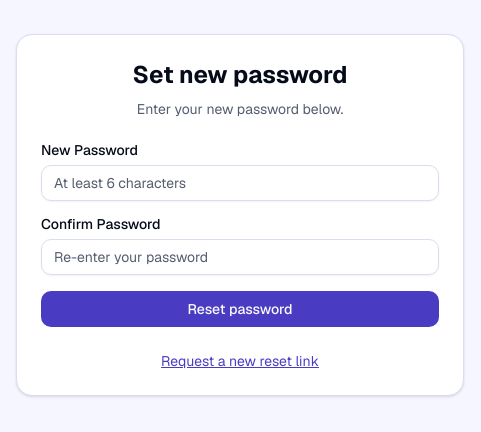
Test: ResetPasswordPage › shows validation error when passwords do not match
In the password field labelled "New Password": coordinates (240, 183) x1=41 y1=165 x2=439 y2=201, type "newpassword123"
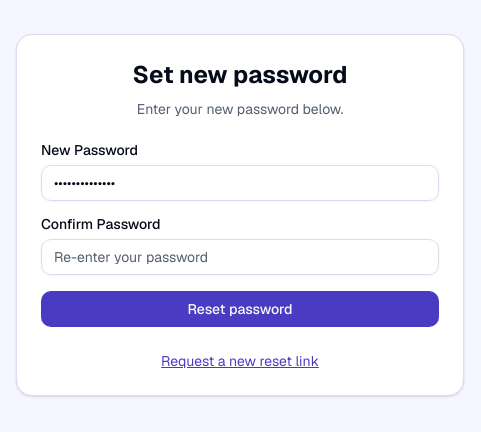
In the password field labelled "Confirm Password": coordinates (240, 257) x1=41 y1=239 x2=439 y2=275, type "differentpassword"
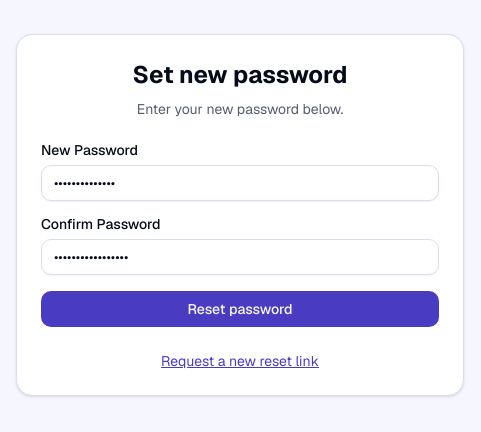
Click the button "Reset password": coordinates (240, 309) x1=41 y1=291 x2=439 y2=327
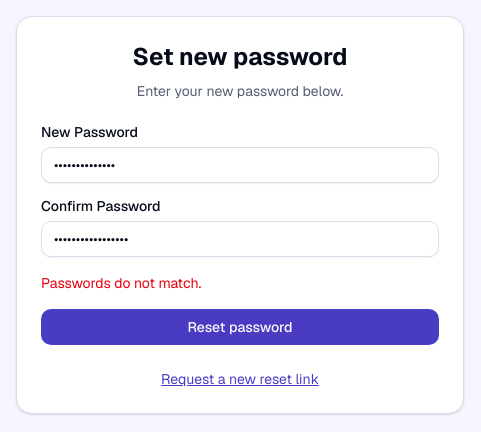
Result: the message shows "Passwords do not match" at x1=41 y1=274 x2=201 y2=292
